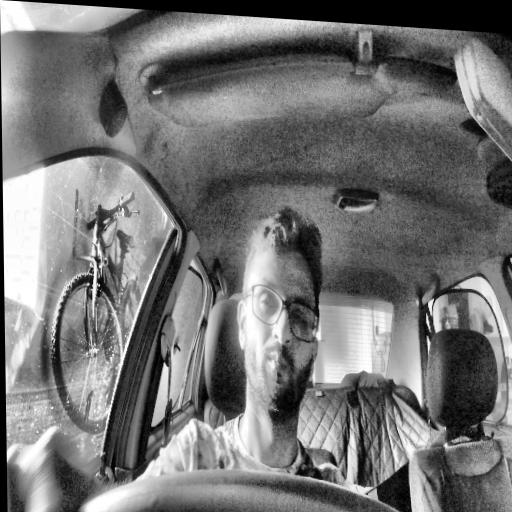drowsy: (234, 205, 326, 429)
